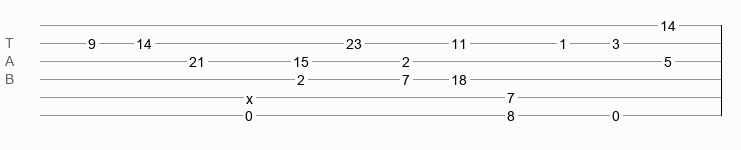0: (245, 108, 253, 118), (612, 108, 620, 118)
1: (559, 36, 567, 46)
11: (451, 36, 467, 46)
14: (136, 36, 152, 46), (660, 18, 676, 28)
15: (293, 54, 309, 64)
18: (451, 72, 467, 82)
2: (297, 72, 305, 82), (402, 54, 410, 64)
21: (189, 54, 205, 64)
23: (346, 36, 362, 46)
3: (612, 36, 620, 46)
5: (664, 54, 672, 64)
7: (402, 72, 410, 82), (507, 90, 515, 100)
8: (507, 108, 515, 118)
9: (88, 36, 96, 46)
x: (246, 91, 253, 99)
